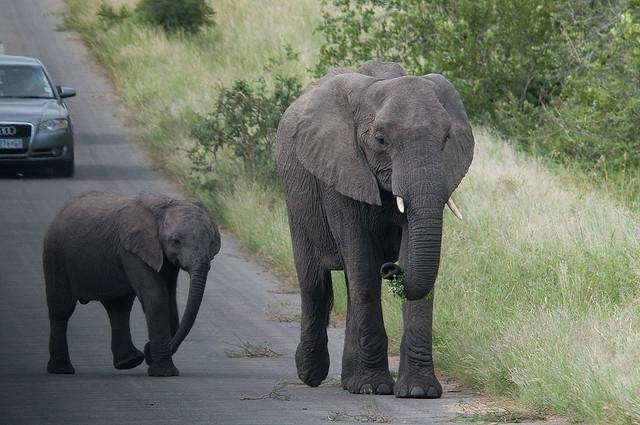car: (0, 54, 77, 176)
